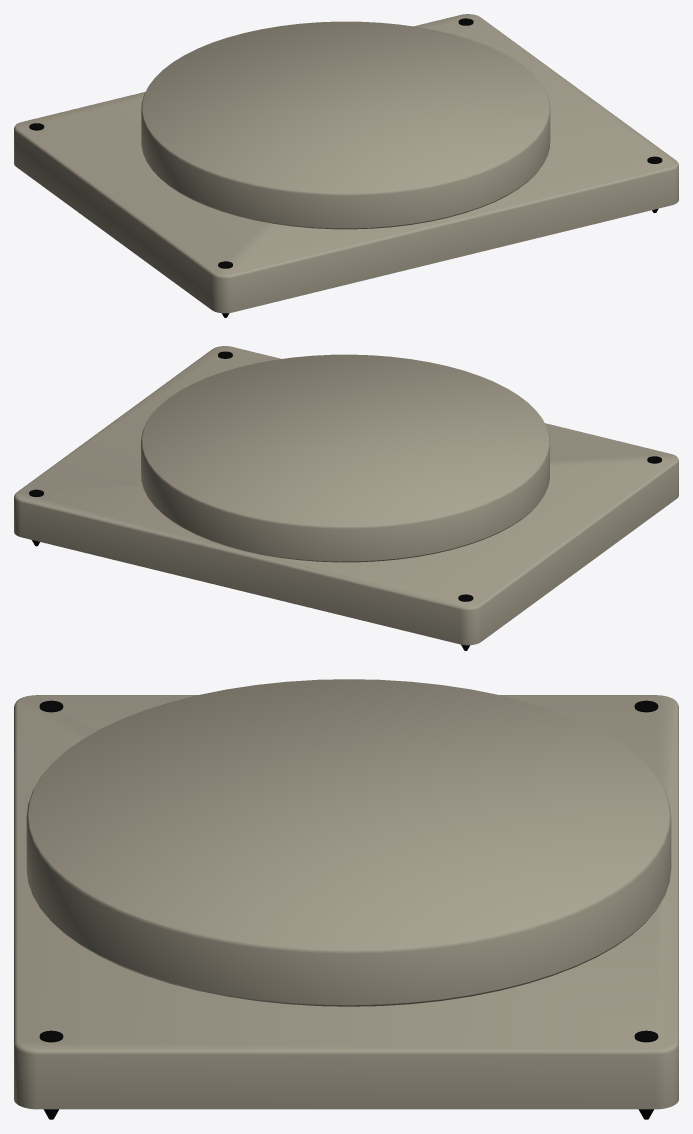
File: RecordPlayer.fbx
3 renders of one model, top to bottom at view 1: azimuth 30°, elevation 25°; view 2: azimuth 150°, elevation 25°; view 3: azimuth 270°, elevation 25°, orthographic. The views are drawn at different scales.
Parts seen in each view (by area): view 1: RecordPlayer; view 2: RecordPlayer; view 3: RecordPlayer.
Boxes of the visible parts, left/top/right/bottom form: RecordPlayer: left=14, top=14, right=678, bottom=317; RecordPlayer: left=14, top=346, right=678, bottom=650; RecordPlayer: left=14, top=679, right=678, bottom=1119.
Size of the model in its own units: 0.3975 by 0.3124 by 0.0722.
